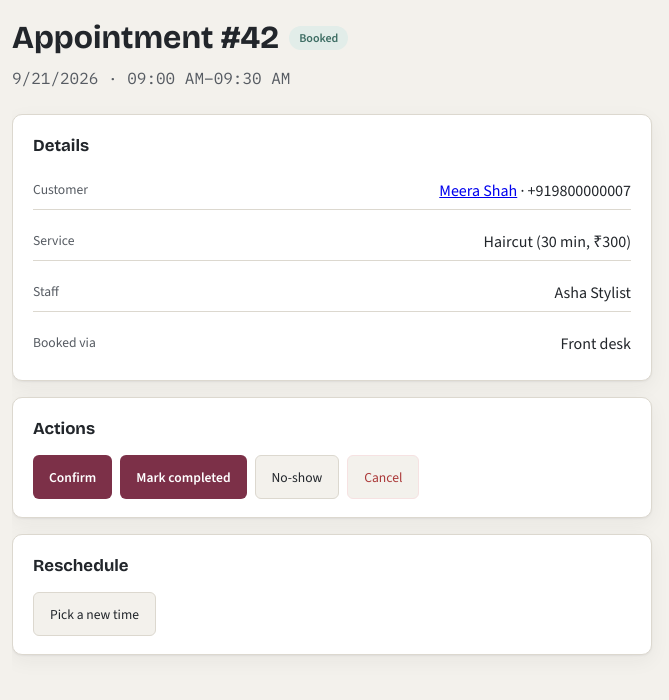
AppointmentDetailPage › reschedules to the slot the user picks, and the page reflects the new time
Expected: the link "Meera Shah" is shown, [439,180,517,201]
Click the button "Pick a new time". click: [94, 614]
box: [33,592,156,636]
(page scrolled)
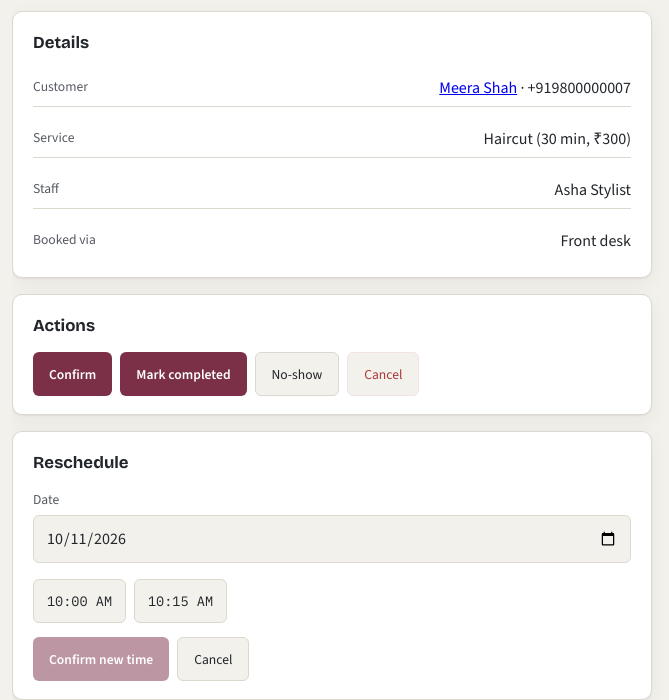
Click the button "10:15 AM". click: [180, 601]
box: [134,579,227,623]
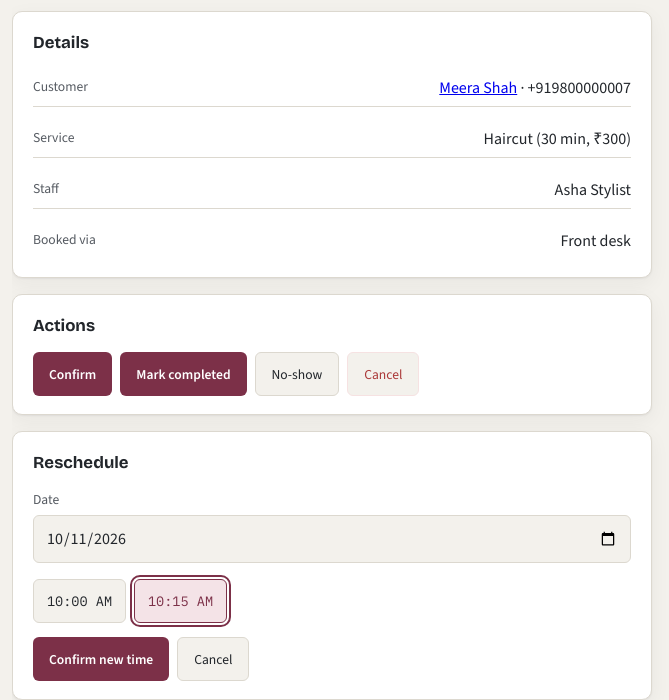
Click the button "Confirm new time". click: [101, 659]
box: [33,637,169,681]
(page scrolled)
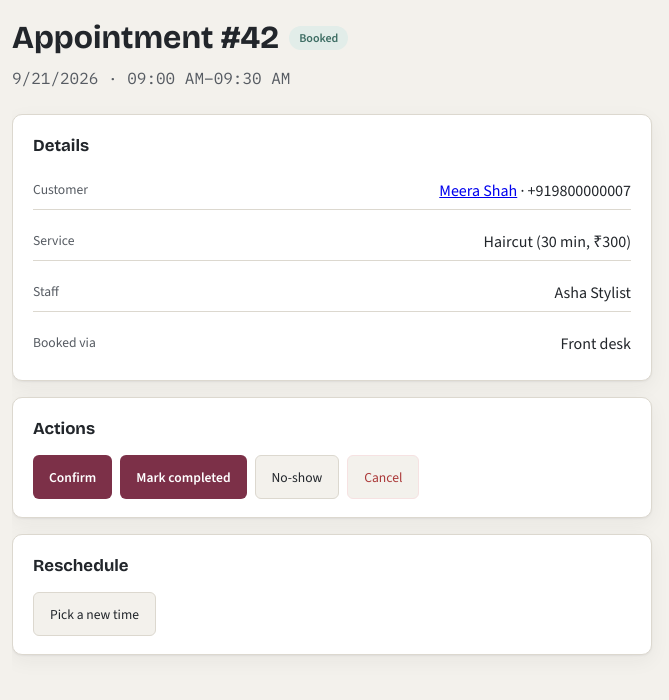
Expected: the button "Confirm new time" is gone
